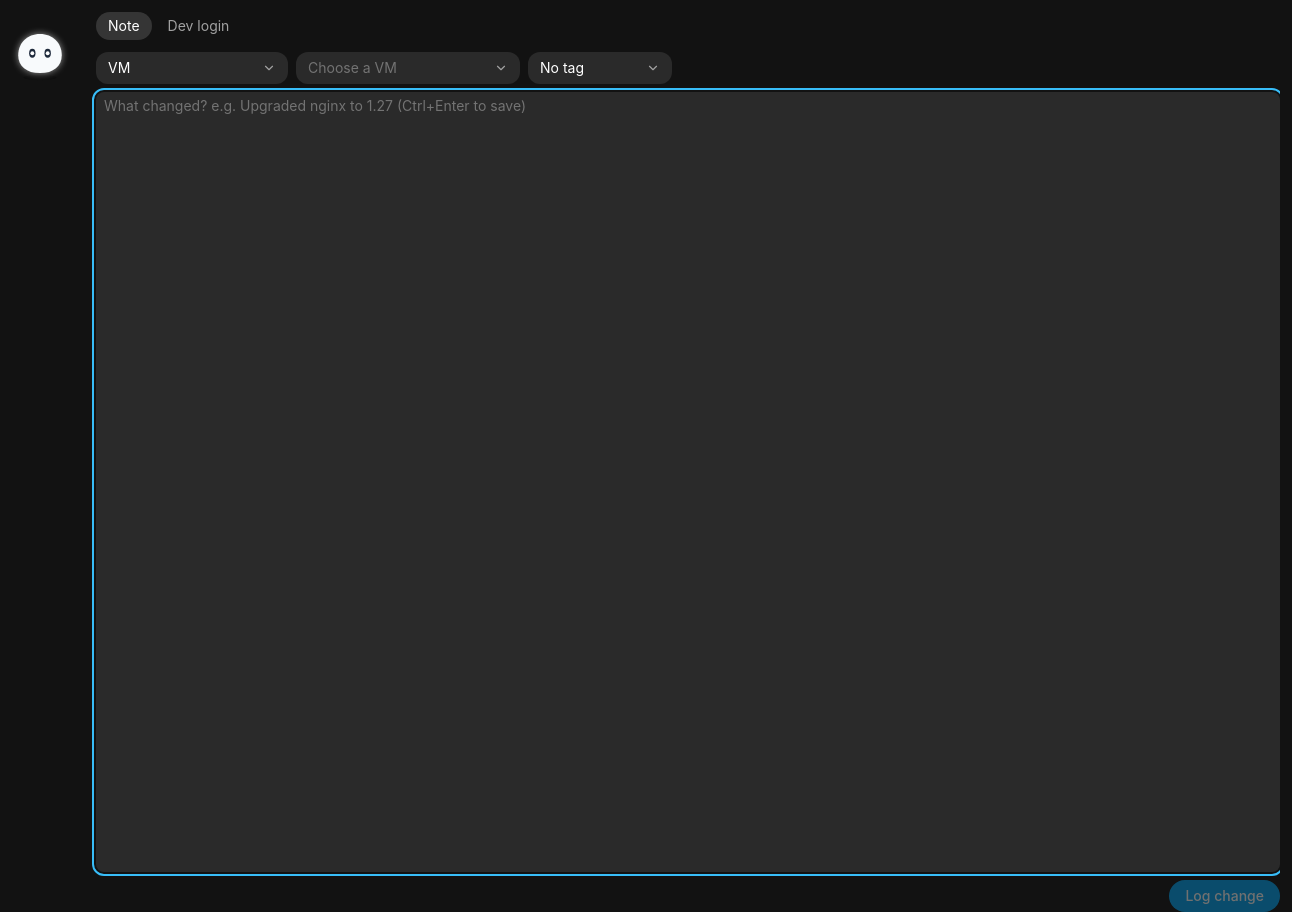
it: QuickAdd › disables saving until a note and a valid name are entered
Expected: the button "Log change" is disabled, [1169, 880, 1280, 911]
Replace the text in the text box named "Note" with "Upgraded nginx": (688, 482) [96, 92, 1280, 872]
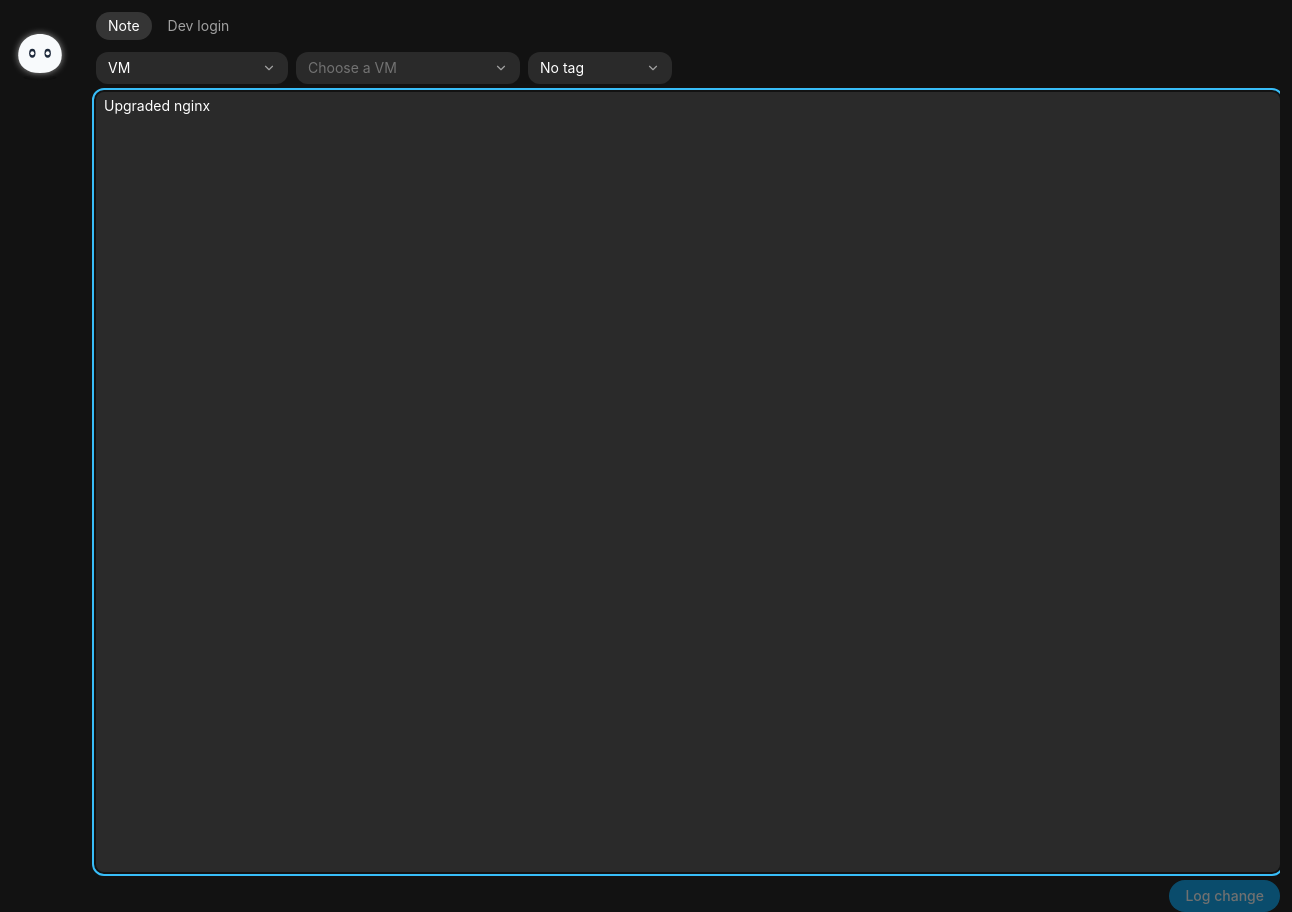
Expected: the button "Log change" is disabled, [1169, 880, 1280, 911]
Click the button with aria-label "Name": (408, 68) [296, 52, 520, 84]
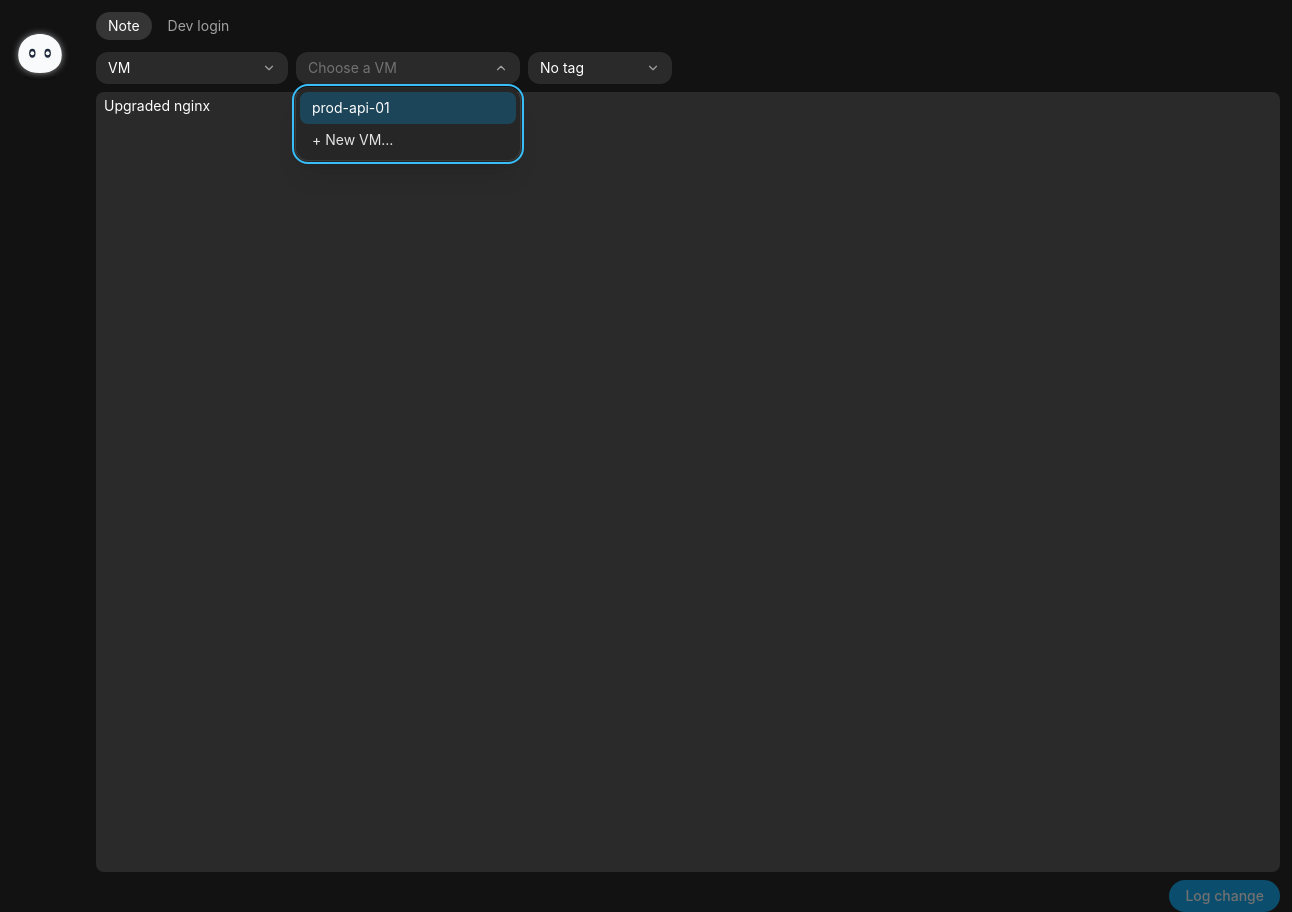
Click the option "prod-api-01": (408, 108) [300, 92, 516, 124]
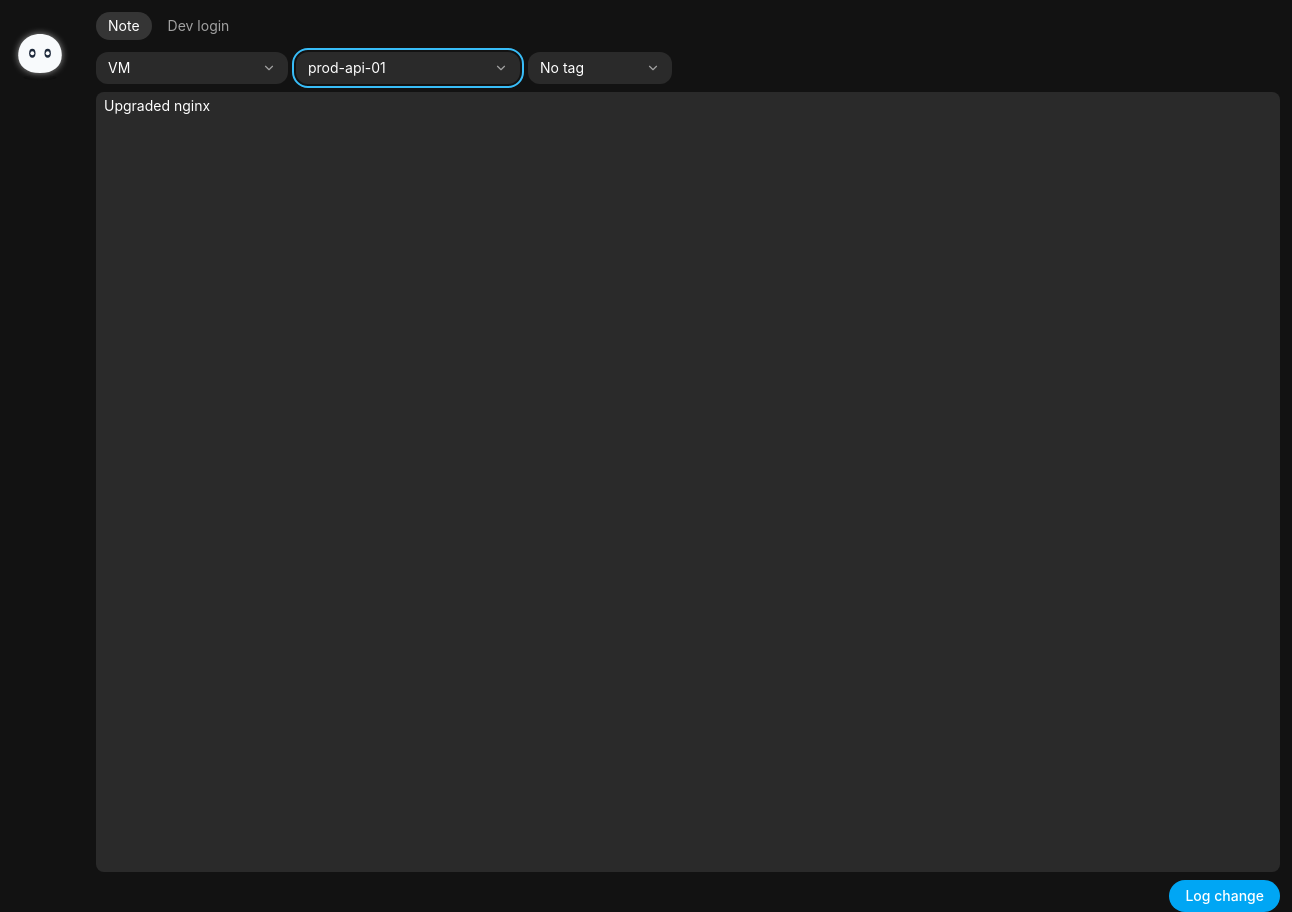
Result: the button "Log change" is enabled at [1169, 880, 1280, 911]
Click the button with aria-label "Name": (408, 68) [296, 52, 520, 84]
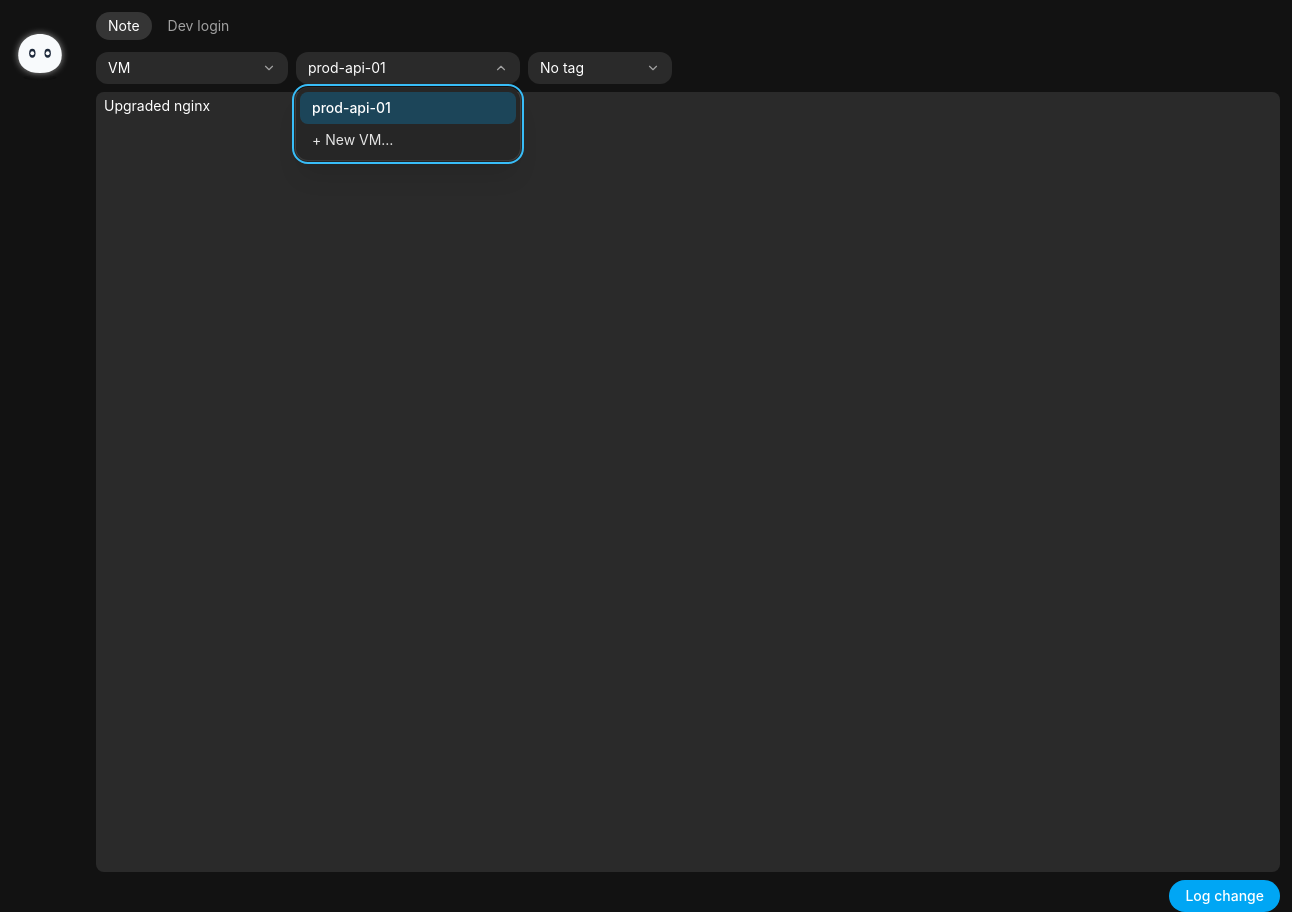
Click the option "+ New VM…": (353, 140) [312, 131, 394, 148]
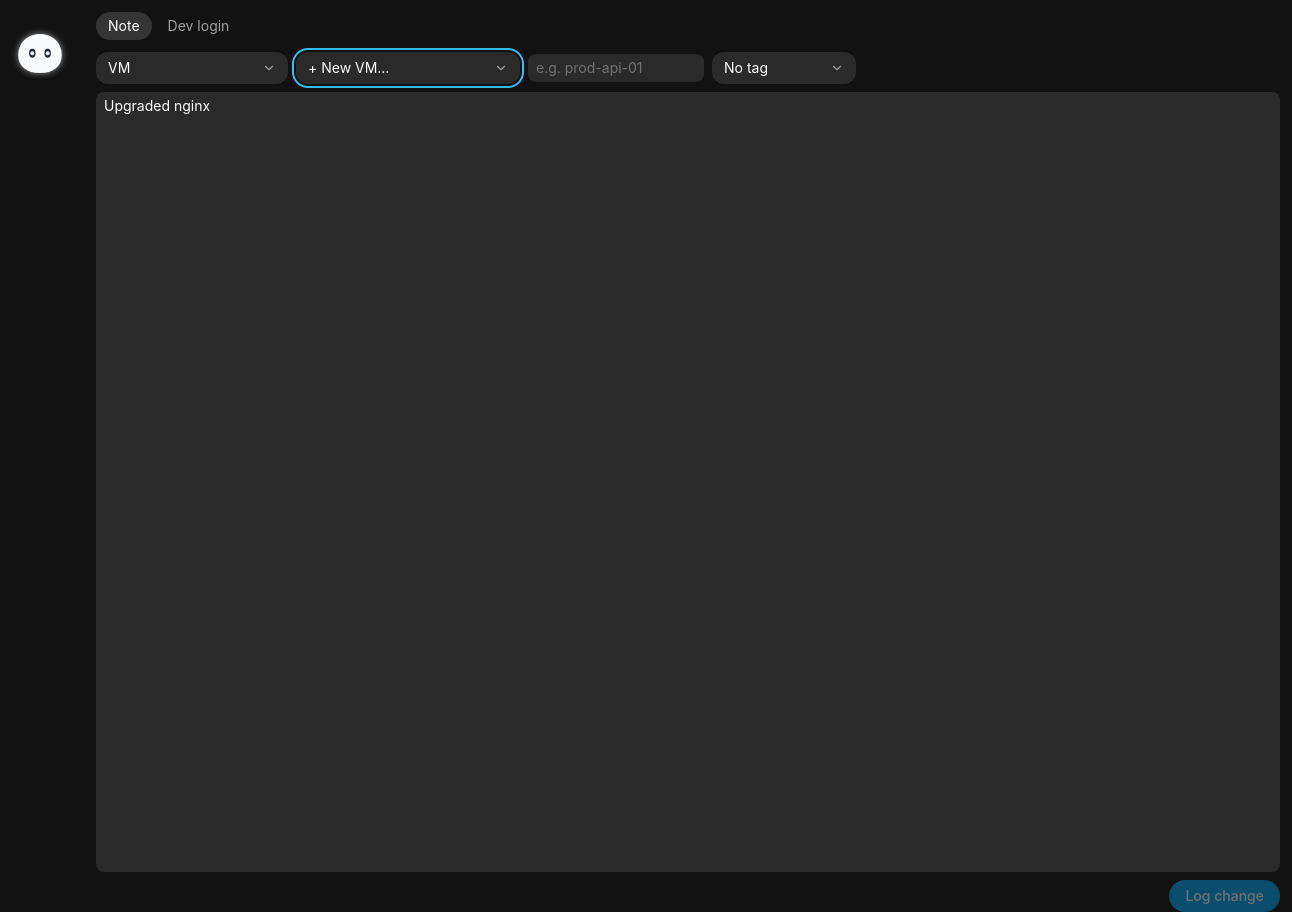
In the field named "New name": (616, 68) [528, 54, 704, 82], type "bad name!"
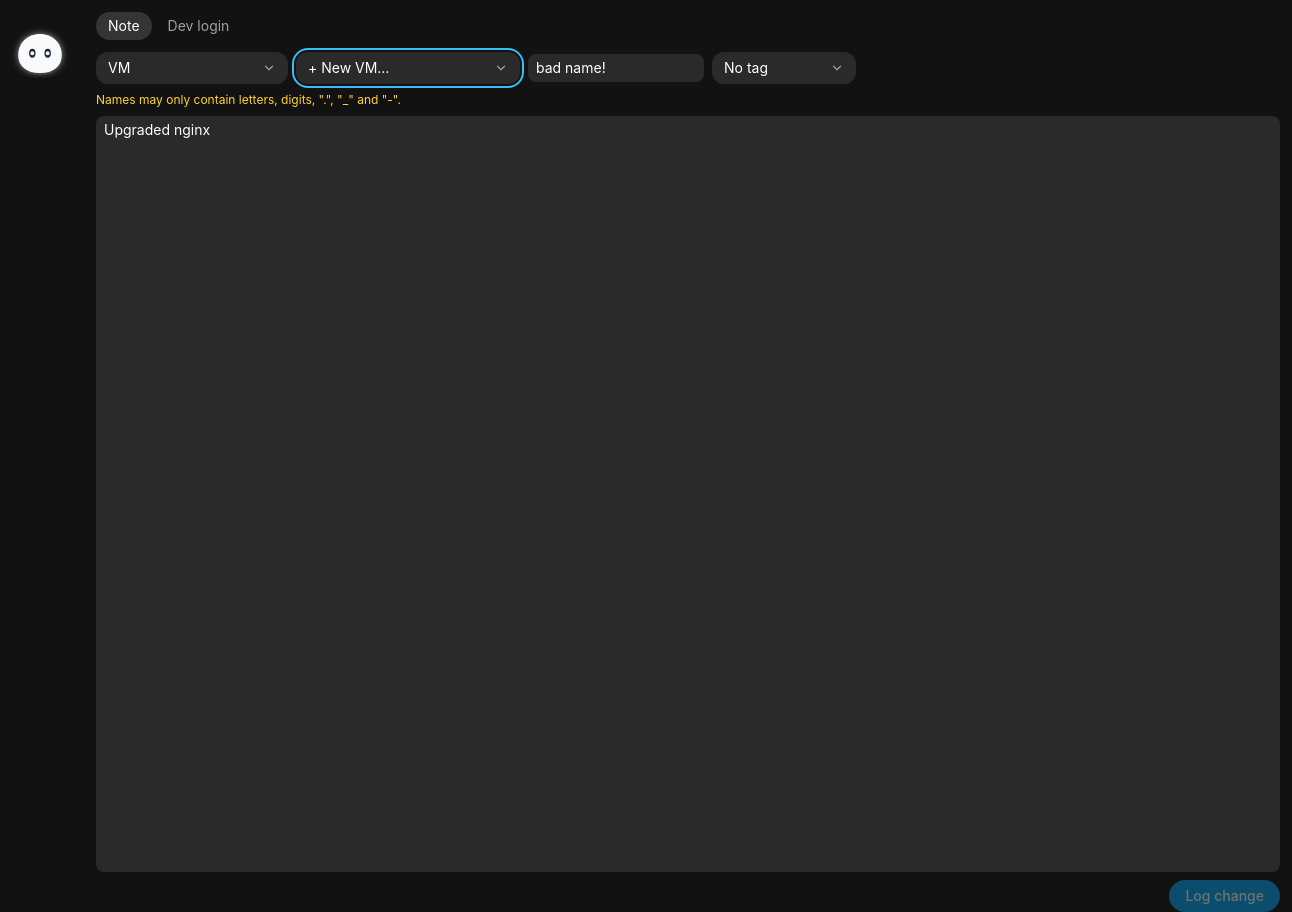
Result: the button "Log change" is disabled at [1169, 880, 1280, 911]
Result: the message shows "Names may only contain" at [96, 92, 401, 107]
